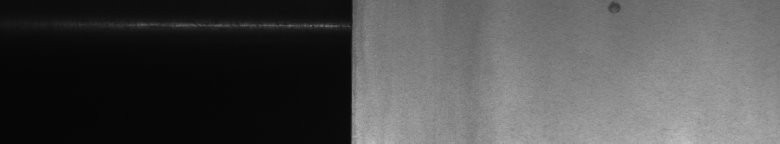fi: (604, 4, 624, 19)
